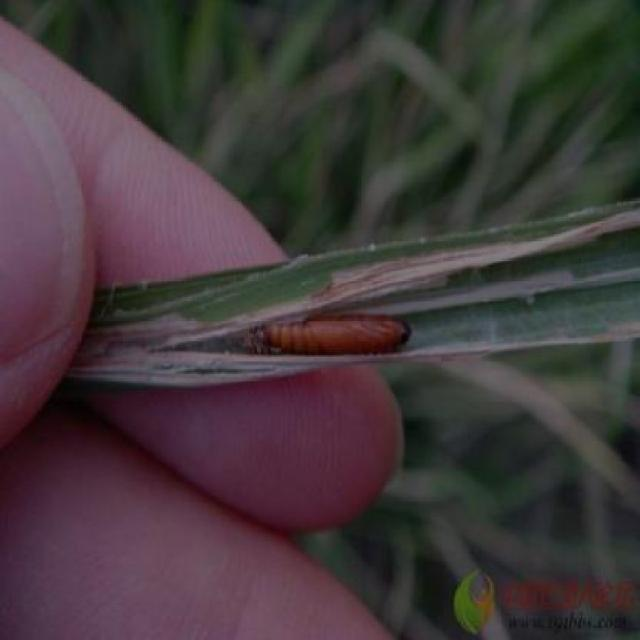leaf-folder: (254, 297, 415, 385)
